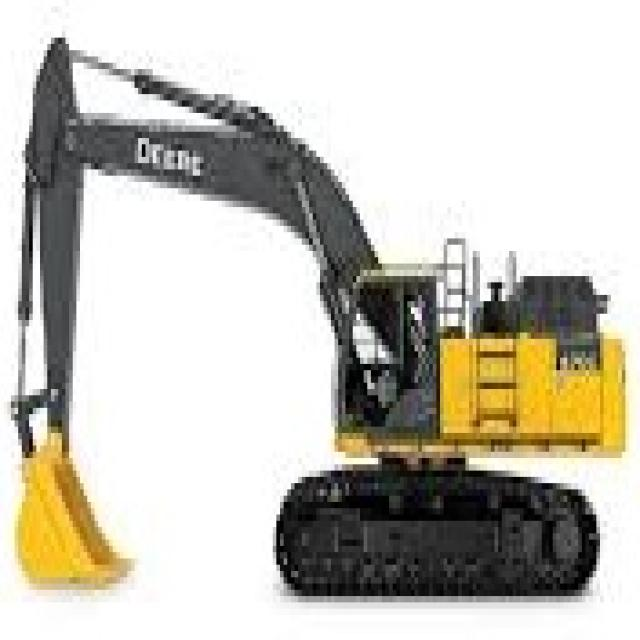excavator: (277, 250, 628, 603)
